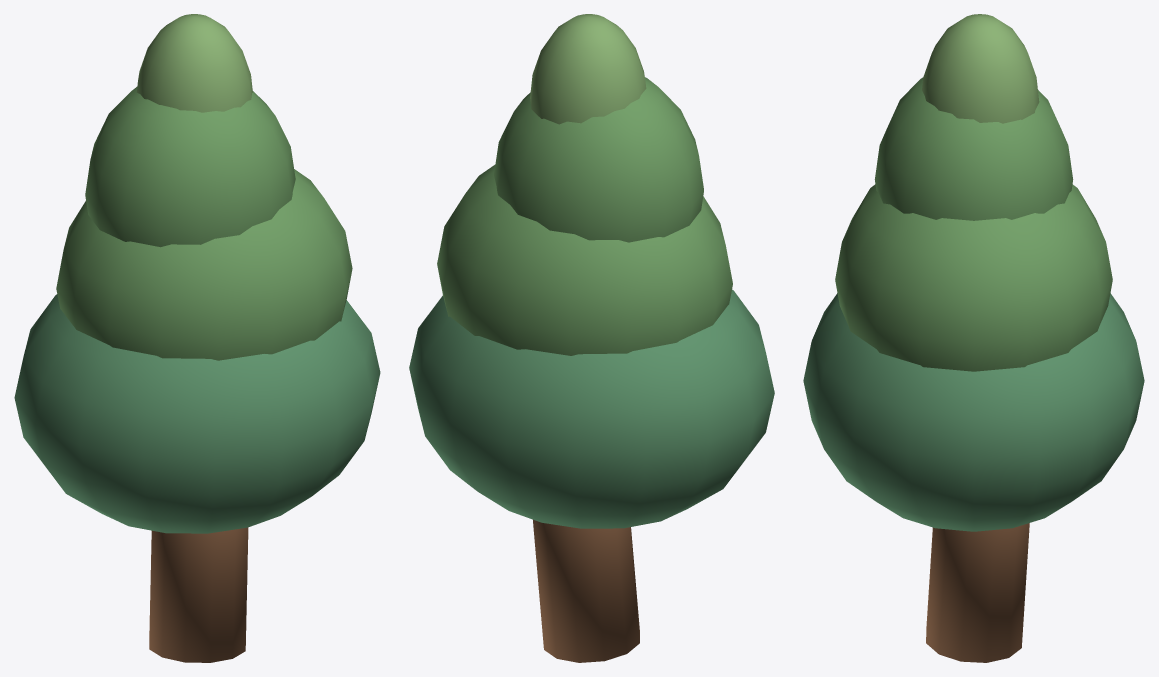
File: tree.glb
3 views of the same model, side by side, from view 1: azimuth 30°, elevation 25°; view 2: azimuth 150°, elevation 25°; view 3: azimuth 270°, elevation 25° (orthographic).
Visible parts, largest first — view 1: tree; view 2: tree; view 3: tree.
Part boxes in pixels (bbox=[...]): tree: bbox=[14, 14, 380, 662]; tree: bbox=[409, 14, 774, 662]; tree: bbox=[803, 14, 1144, 662].
Size of the model in its own units: 0.94 by 1.74 by 0.86.
Materials: 1 (1 with a texture image).
